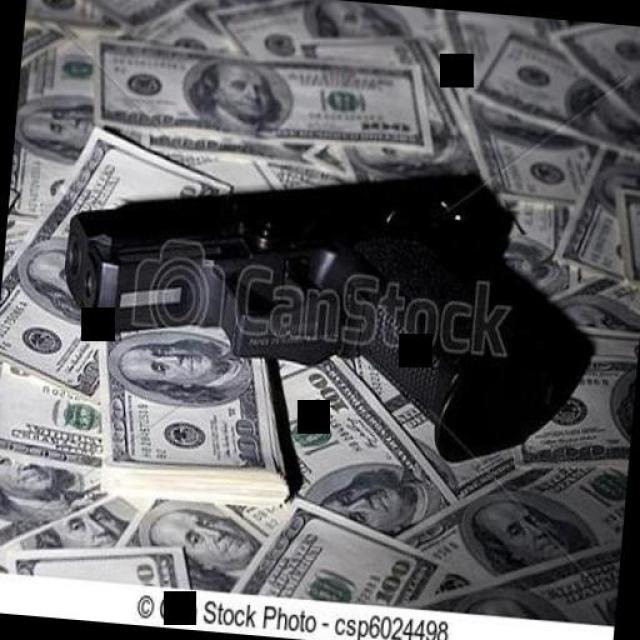gun: (48, 134, 602, 472)
